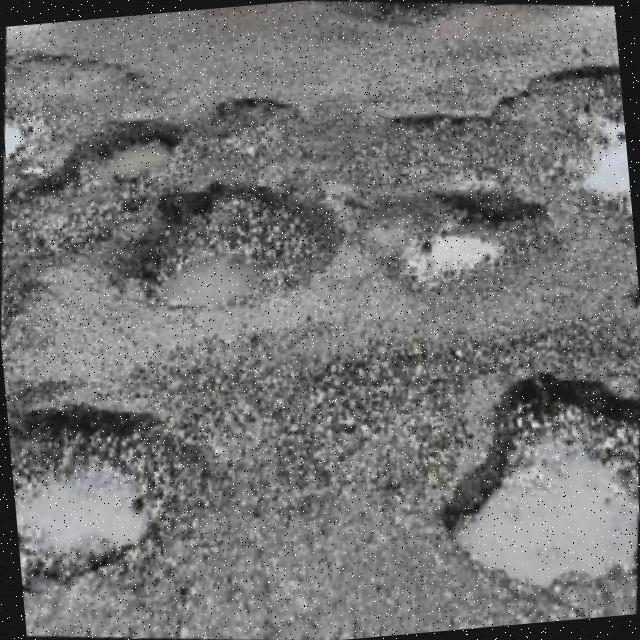Pothole: (337, 67, 631, 243), (444, 377, 638, 585), (7, 402, 201, 585), (105, 183, 340, 308), (344, 181, 545, 292), (8, 121, 187, 226), (6, 47, 153, 98), (200, 98, 302, 164), (4, 97, 49, 159)
